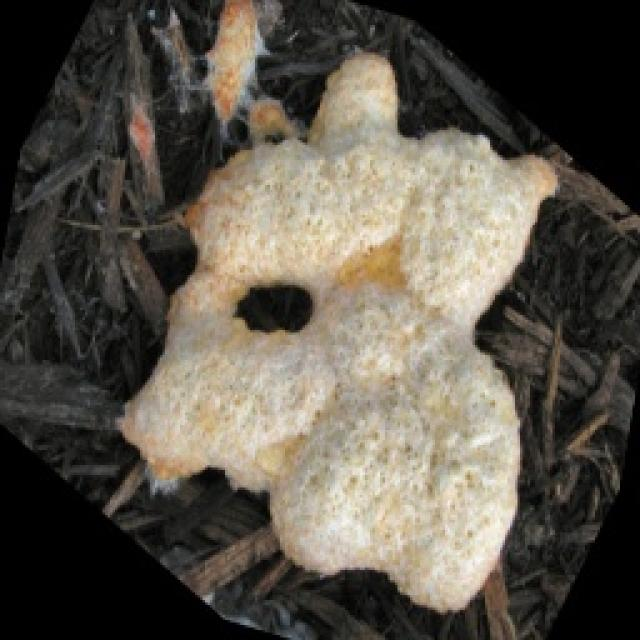Dog_vomit_slime_mold: (113, 46, 614, 624)
